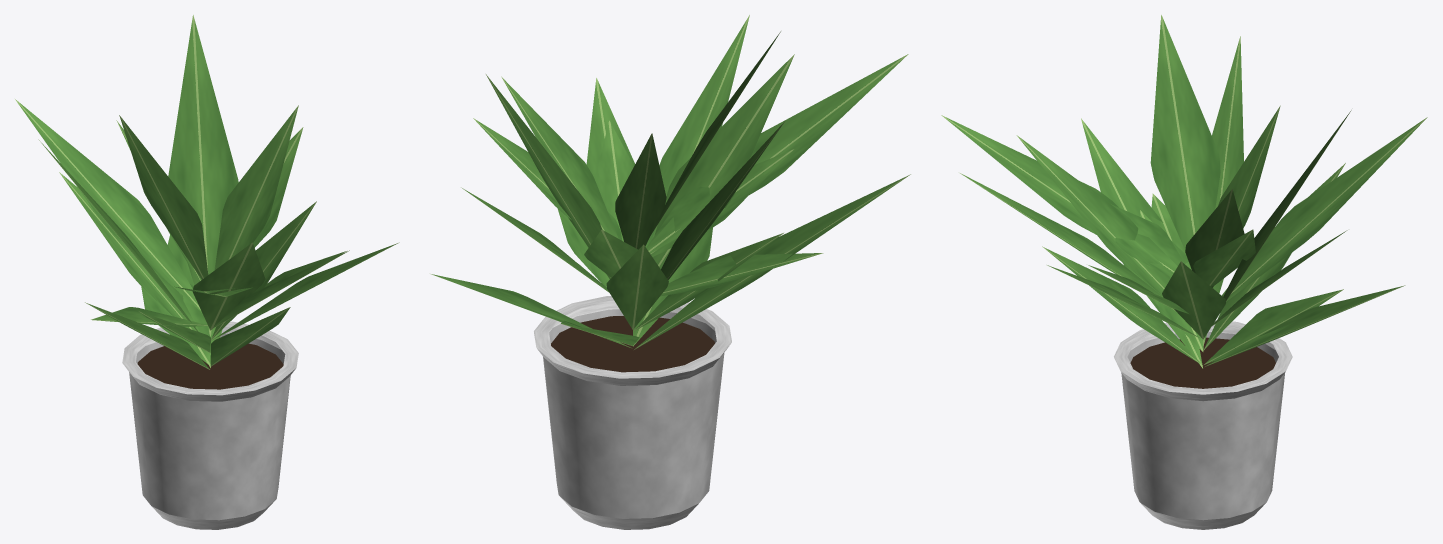
File: plant_big.obj
3 renders of one model, left to right at view 1: azimuth 30°, elevation 25°; view 2: azimuth 150°, elevation 25°; view 3: azimuth 270°, elevation 25°, orthographic. The views are drawn at different scales.
Visible parts, largest first — view 1: plant_big; view 2: plant_big; view 3: plant_big.
Boxes of the visible parts, left/top/right/bottom form: plant_big: left=15, top=15, right=399, bottom=529; plant_big: left=431, top=15, right=910, bottom=529; plant_big: left=941, top=15, right=1427, bottom=529.
Bounding box in the file's own units: 1.03 × 1.4 × 1.42.
Materials: 3 (2 with a texture image).
